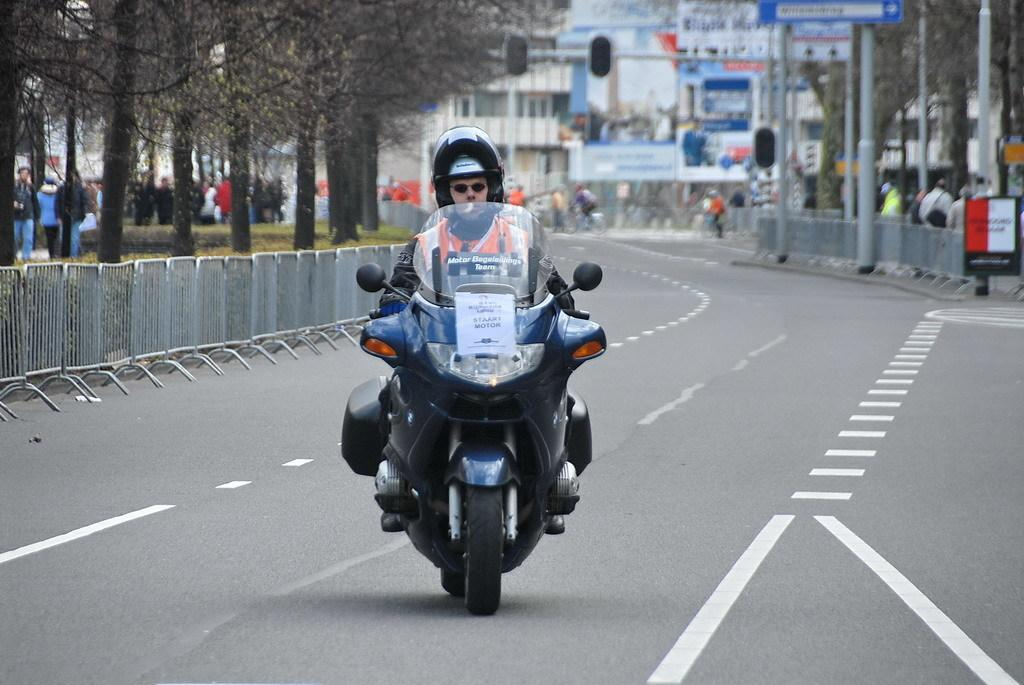helmet: (431, 124, 505, 219)
